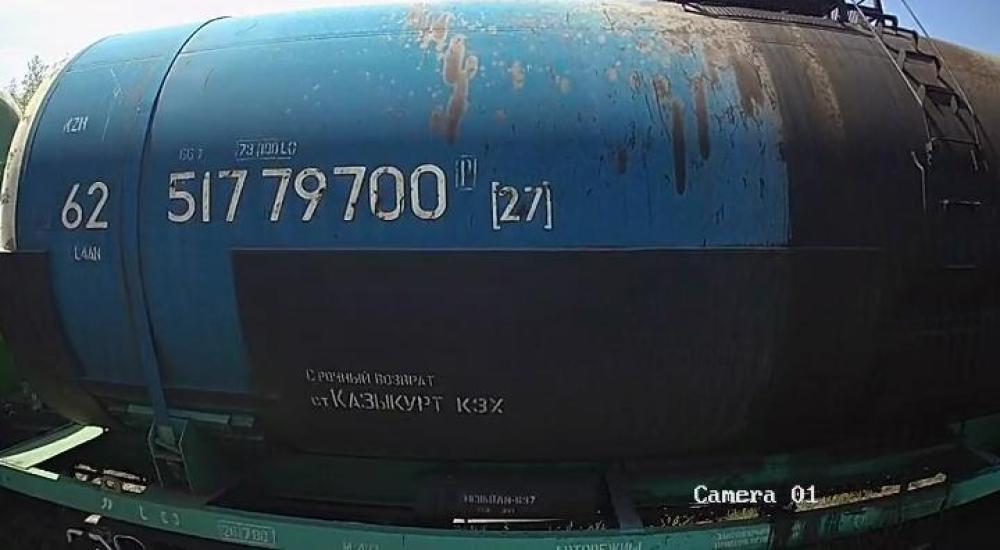Wagon-number: (160, 158, 452, 226)
